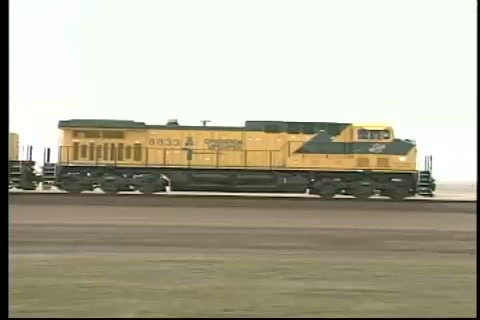train: (9, 118, 438, 201)
